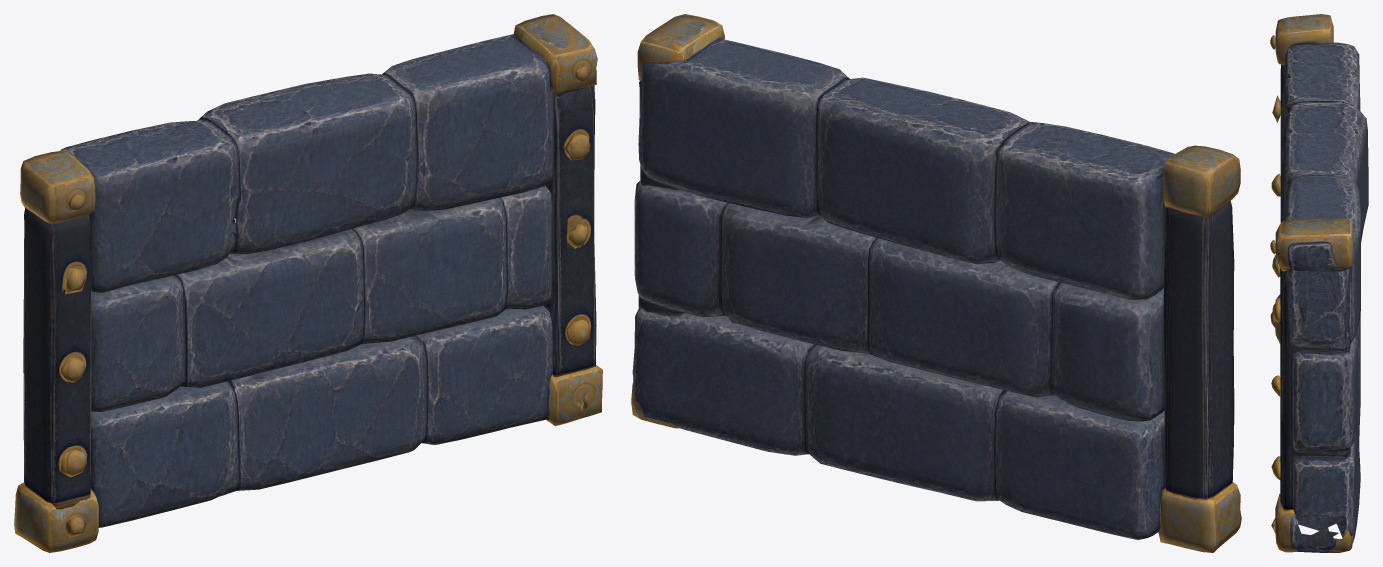
File: stone_wall.glb
3 views of the same model, side by side, from view 1: azimuth 30°, elevation 25°; view 2: azimuth 150°, elevation 25°; view 3: azimuth 270°, elevation 25° (orthographic). The views are drawn at different scales.
Parts seen in each view (by area): view 1: tripo_node_e5590904; view 2: tripo_node_e5590904; view 3: tripo_node_e5590904.
Part boxes in pixels (x1,y1,x2,y2): tripo_node_e5590904: [14, 14, 602, 552]; tripo_node_e5590904: [631, 14, 1241, 552]; tripo_node_e5590904: [1270, 14, 1368, 552].
Bounding box in the file's own units: 1 × 0.6446 × 0.1787.
1 material, 1 textured.
